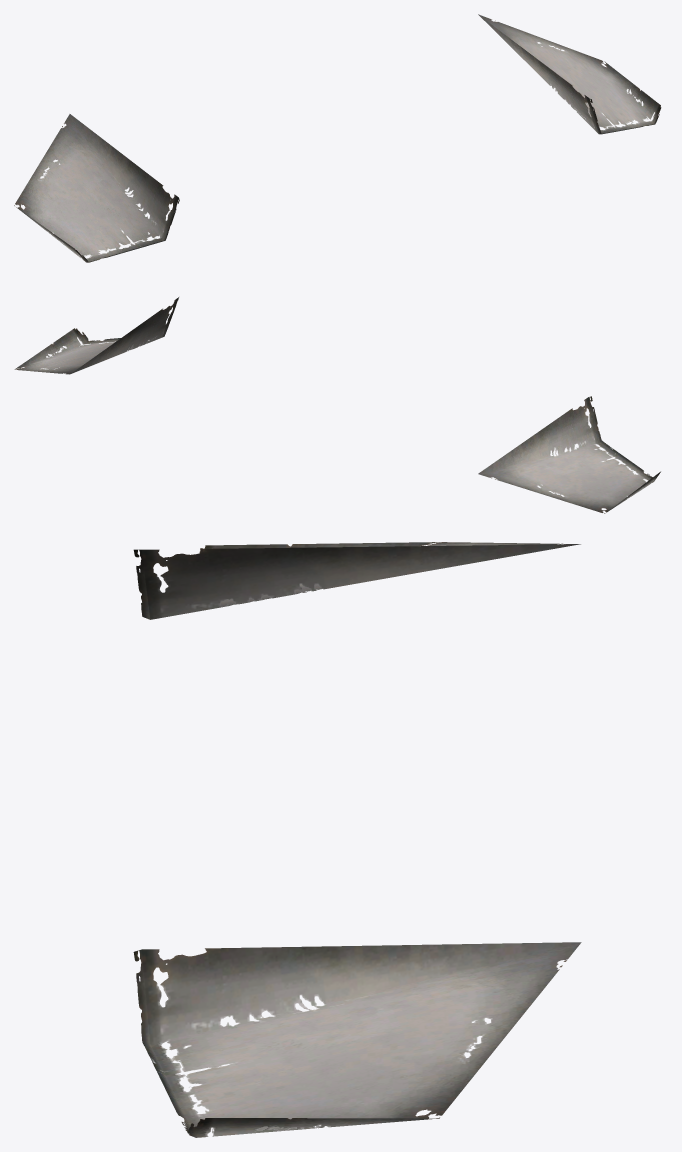
File: hutt_fighter_medium_missle_pod_s01_l1.fbx
The picture shows the model from 3 angles, top to bottom: view 1: azimuth 30°, elevation 25°; view 2: azimuth 150°, elevation 25°; view 3: azimuth 270°, elevation 25°; orthographic projection. The views are drawn at different scales.
Visible parts, largest first — view 1: mesh_node; view 2: mesh_node; view 3: mesh_node.
Part boxes in pixels (<box>): mesh_node: <box>14,14,661,262</box>; mesh_node: <box>14,297,660,513</box>; mesh_node: <box>133,542,581,1137</box>.
Size of the model in its own units: 9.18 by 0.8744 by 3.24.
